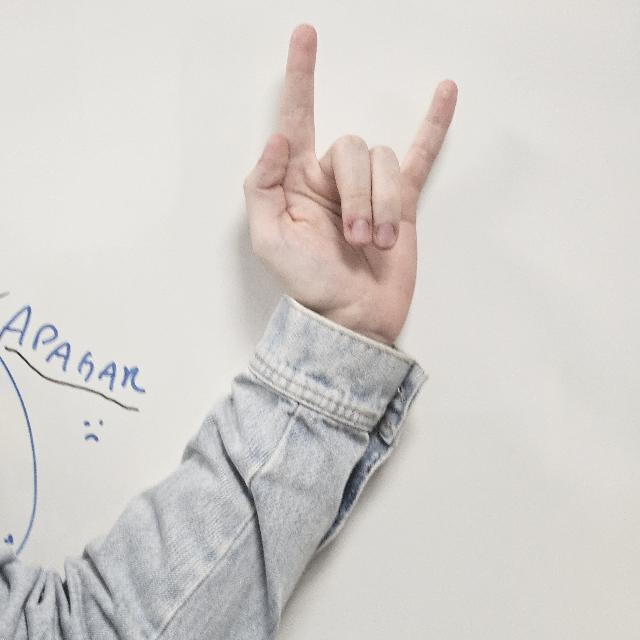L: (250, 24, 458, 342)
